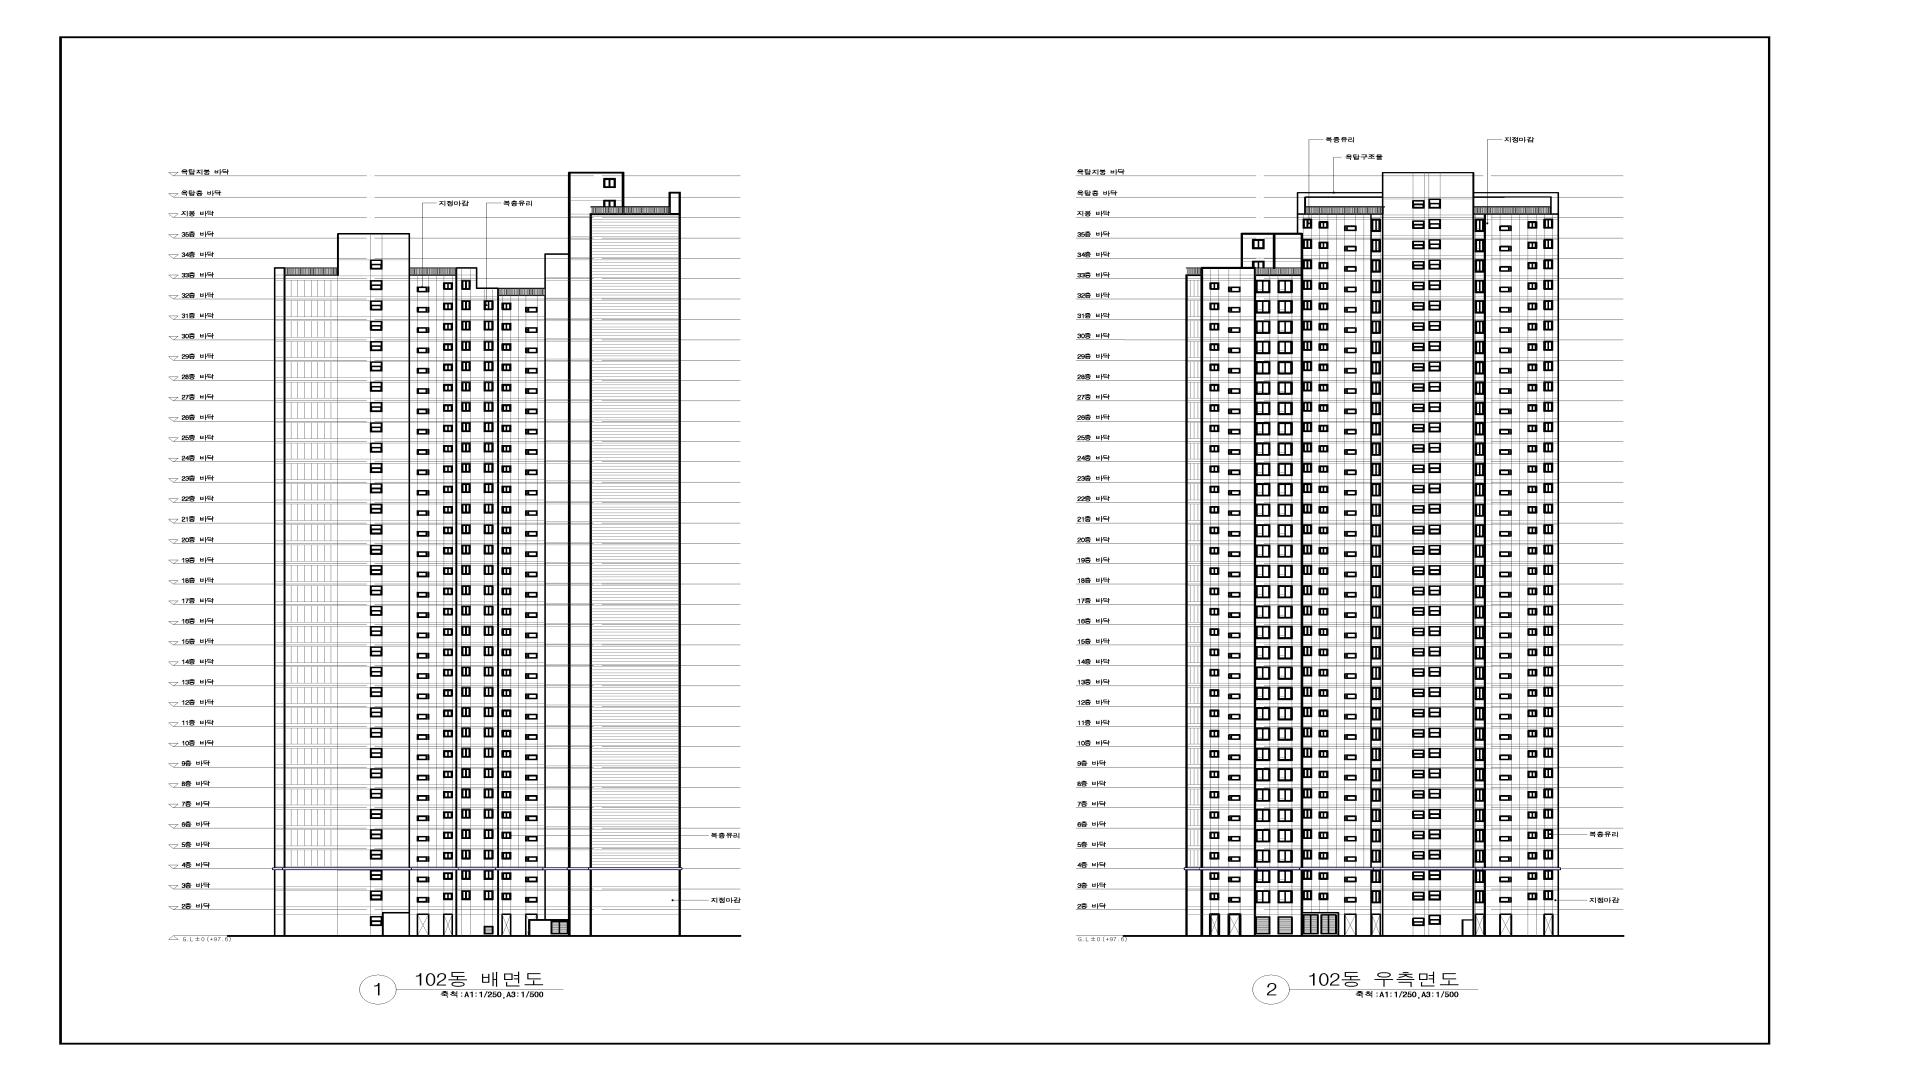door: (1228, 914, 1242, 935), (417, 914, 430, 935), (525, 914, 538, 935), (1344, 914, 1357, 935), (1499, 914, 1513, 935), (1370, 914, 1382, 935), (1474, 914, 1486, 935), (443, 914, 454, 935), (501, 914, 512, 935), (1209, 914, 1220, 935), (1543, 914, 1553, 935)
wall: (274, 171, 682, 938), (1185, 171, 1559, 938)
window: (1300, 914, 1319, 935), (1320, 914, 1337, 935), (1254, 916, 1271, 935), (551, 919, 571, 935), (1278, 916, 1294, 935), (1254, 767, 1271, 782), (1278, 280, 1294, 294), (1278, 340, 1294, 355), (1278, 381, 1294, 396), (1278, 442, 1294, 456), (1278, 483, 1294, 497), (1278, 666, 1294, 680), (1278, 767, 1294, 782), (1278, 869, 1294, 884), (1254, 340, 1270, 355), (1254, 442, 1270, 456), (1254, 666, 1270, 680), (1254, 301, 1271, 314), (1254, 361, 1271, 375), (1254, 381, 1271, 394), (1254, 422, 1271, 435), (1254, 504, 1271, 517), (1254, 525, 1271, 538), (1254, 564, 1271, 578), (1254, 646, 1271, 659), (1254, 748, 1271, 761), (1254, 789, 1271, 802), (1254, 870, 1271, 884), (1278, 301, 1294, 314), (1278, 320, 1294, 334), (1278, 361, 1294, 375), (1278, 402, 1294, 415), (1278, 422, 1294, 435), (1278, 463, 1294, 476), (1278, 525, 1294, 538), (1278, 545, 1294, 558), (1278, 564, 1294, 578), (1278, 585, 1294, 599), (1278, 626, 1294, 640), (1278, 646, 1294, 659), (1278, 687, 1294, 700), (1278, 707, 1294, 720), (1278, 728, 1294, 741), (1278, 748, 1294, 761), (1278, 789, 1294, 802), (1278, 808, 1294, 822), (1278, 829, 1294, 843), (1278, 849, 1294, 862), (1278, 890, 1294, 903), (1254, 280, 1270, 293), (1254, 320, 1270, 334), (1254, 402, 1270, 415), (1254, 463, 1270, 476), (1254, 483, 1270, 496), (1254, 545, 1270, 558), (1254, 585, 1270, 599), (1254, 605, 1270, 618), (1254, 626, 1270, 640), (1254, 687, 1270, 700), (1254, 707, 1270, 720), (1254, 728, 1270, 741), (1254, 808, 1270, 822), (1254, 829, 1270, 843), (1254, 849, 1270, 862), (1254, 890, 1270, 903), (1278, 504, 1292, 517), (1278, 605, 1292, 618), (1474, 340, 1486, 355), (1474, 483, 1486, 497), (1474, 666, 1486, 680), (1474, 767, 1486, 782), (1474, 219, 1486, 232), (1474, 239, 1486, 252), (1474, 260, 1486, 273), (1474, 320, 1486, 334), (1474, 402, 1486, 415), (1474, 422, 1486, 435), (1474, 463, 1486, 476), (1474, 525, 1486, 538), (1474, 545, 1486, 558), (1474, 564, 1486, 578), (1474, 585, 1486, 599), (1474, 646, 1486, 659), (1474, 687, 1486, 700), (1474, 707, 1486, 720), (1474, 728, 1486, 741), (1474, 748, 1486, 761), (1474, 789, 1486, 802), (1474, 808, 1486, 822), (1474, 829, 1486, 843), (1474, 849, 1486, 862), (1474, 870, 1486, 884), (1474, 890, 1486, 903), (1370, 260, 1382, 273), (1370, 748, 1382, 761), (1476, 442, 1486, 456), (1370, 340, 1381, 355), (1370, 442, 1381, 456), (1370, 666, 1381, 680), (1370, 707, 1381, 721), (603, 178, 616, 189), (369, 280, 382, 290), (369, 301, 382, 311), (369, 320, 382, 331), (369, 340, 382, 351), (369, 361, 382, 372), (369, 381, 382, 392), (369, 402, 382, 413), (369, 422, 382, 433), (369, 463, 382, 473), (369, 483, 382, 493), (369, 504, 382, 514), (369, 545, 382, 555), (369, 585, 382, 596), (369, 605, 382, 616), (369, 646, 382, 657), (369, 687, 382, 698), (369, 707, 382, 717), (369, 748, 382, 758), (369, 789, 382, 799), (369, 808, 382, 819), (369, 849, 382, 860), (369, 890, 382, 901), (1428, 219, 1441, 229), (1428, 239, 1441, 249), (1428, 260, 1441, 270), (1428, 280, 1441, 290), (1428, 301, 1441, 311), (1428, 320, 1441, 331), (1428, 361, 1441, 372), (1428, 381, 1441, 392), (1428, 402, 1441, 413), (1428, 422, 1441, 433), (1428, 443, 1441, 454), (1428, 463, 1441, 473), (1428, 504, 1441, 514), (1428, 525, 1441, 535), (1428, 545, 1441, 555), (1428, 585, 1441, 596), (1428, 605, 1441, 616), (1428, 626, 1441, 637), (1428, 646, 1441, 657), (1428, 687, 1441, 698), (1428, 707, 1441, 717), (1428, 728, 1441, 738), (1428, 748, 1441, 758), (1428, 789, 1441, 799), (1428, 808, 1441, 819), (1428, 829, 1441, 840), (1428, 849, 1441, 860), (1428, 870, 1441, 881), (1428, 890, 1441, 901), (1428, 915, 1441, 926), (1251, 239, 1265, 249), (1476, 280, 1486, 293), (1476, 301, 1486, 314), (1476, 361, 1486, 375), (1476, 381, 1486, 394), (1476, 504, 1486, 517), (1476, 605, 1486, 618), (1476, 626, 1486, 640), (1370, 219, 1381, 232), (1370, 239, 1381, 252), (1370, 280, 1381, 293), (1370, 301, 1381, 314), (1370, 320, 1381, 334), (1370, 361, 1381, 375), (1370, 381, 1381, 394), (1370, 402, 1381, 415), (1370, 422, 1381, 435), (1370, 463, 1381, 476), (1370, 483, 1381, 496), (1370, 504, 1381, 517), (1370, 525, 1381, 538), (1370, 545, 1381, 558), (1370, 564, 1381, 578), (1370, 585, 1381, 599), (1370, 605, 1381, 618), (1370, 626, 1381, 640), (1370, 646, 1381, 659), (1370, 687, 1381, 700), (1370, 728, 1381, 741), (1370, 769, 1381, 782), (1370, 789, 1381, 802), (1370, 808, 1381, 822), (1370, 829, 1381, 843), (1370, 849, 1381, 862), (1370, 870, 1381, 884), (1370, 890, 1381, 903), (1300, 239, 1312, 249), (1300, 280, 1312, 290), (1300, 320, 1312, 331), (1300, 340, 1312, 351), (1300, 361, 1312, 372), (1300, 381, 1312, 392), (1300, 422, 1312, 433), (1300, 442, 1312, 452), (1300, 463, 1312, 473), (1300, 483, 1312, 493), (1300, 504, 1312, 514), (1300, 545, 1312, 555), (1300, 564, 1312, 575), (1300, 585, 1312, 596), (1300, 605, 1312, 616), (1300, 625, 1312, 636), (1300, 646, 1312, 657), (1300, 666, 1312, 676), (1300, 687, 1312, 698), (1300, 707, 1312, 717), (1300, 748, 1312, 758), (1300, 767, 1312, 778), (1300, 789, 1312, 799), (1300, 808, 1312, 819), (1300, 849, 1312, 860), (1300, 890, 1312, 901), (369, 260, 382, 269), (369, 443, 382, 452), (369, 525, 382, 534), (369, 566, 382, 575), (369, 626, 382, 636), (369, 667, 382, 676), (369, 728, 382, 737), (369, 769, 382, 778), (369, 829, 382, 839), (369, 870, 382, 880), (1428, 199, 1441, 208), (1428, 342, 1441, 351), (1428, 484, 1441, 493), (1428, 566, 1441, 575), (1428, 667, 1441, 676), (1428, 769, 1441, 778), (1412, 220, 1425, 229), (1412, 261, 1425, 270), (1412, 302, 1425, 311), (1412, 322, 1425, 331), (1412, 363, 1425, 372), (1412, 404, 1425, 413), (1412, 423, 1425, 433), (1412, 464, 1425, 473), (1412, 505, 1425, 514), (1412, 546, 1425, 555), (1412, 587, 1425, 596), (1412, 607, 1425, 616), (1412, 628, 1425, 637), (1412, 647, 1425, 657), (1412, 688, 1425, 698), (1412, 729, 1425, 738), (1412, 749, 1425, 758), (1412, 790, 1425, 799), (1412, 831, 1425, 840), (1412, 851, 1425, 860), (1412, 872, 1425, 881), (1412, 891, 1425, 901), (484, 361, 495, 372), (483, 442, 493, 452), (484, 849, 495, 860), (1543, 239, 1553, 249), (1543, 280, 1553, 290), (1543, 320, 1553, 331), (1543, 340, 1553, 351), (1543, 361, 1553, 372), (1543, 381, 1553, 392), (1543, 422, 1553, 433), (1543, 442, 1553, 452), (1543, 463, 1553, 473), (1543, 483, 1553, 493), (1543, 504, 1553, 514), (1543, 524, 1553, 534), (1543, 545, 1553, 555), (1543, 564, 1553, 575), (1543, 605, 1553, 616), (1543, 646, 1553, 657), (1543, 666, 1553, 676), (1543, 687, 1553, 698), (1543, 707, 1553, 717), (1543, 748, 1553, 758), (1543, 767, 1553, 778), (1543, 789, 1553, 799), (1543, 808, 1553, 819), (1543, 849, 1553, 860), (1543, 890, 1553, 901), (371, 916, 382, 926), (1300, 260, 1312, 269), (1300, 301, 1312, 310), (1300, 402, 1312, 411), (1300, 525, 1312, 534), (1300, 728, 1312, 737), (1300, 829, 1312, 839), (1300, 870, 1312, 880), (1251, 261, 1265, 269), (1412, 200, 1425, 208), (1412, 241, 1425, 249), (1412, 282, 1425, 290), (1412, 343, 1425, 351), (1412, 384, 1425, 392), (1412, 444, 1425, 452), (1412, 485, 1425, 493), (1412, 526, 1425, 534), (1412, 567, 1425, 575), (1412, 669, 1425, 676), (1412, 709, 1425, 717), (1412, 770, 1425, 778), (1412, 811, 1425, 819), (1412, 918, 1425, 926), (462, 280, 471, 290), (484, 890, 493, 901), (462, 320, 471, 331), (462, 340, 471, 351), (462, 381, 471, 392), (462, 422, 471, 433), (462, 442, 471, 452), (462, 463, 471, 473), (462, 483, 471, 493), (462, 504, 471, 514), (462, 524, 471, 534), (462, 545, 471, 555), (462, 564, 471, 575), (462, 605, 471, 616), (462, 646, 471, 657), (462, 666, 471, 676), (462, 707, 471, 717), (462, 748, 471, 758), (462, 767, 471, 778), (462, 808, 471, 819), (462, 849, 471, 860), (462, 890, 471, 901), (484, 320, 493, 331), (484, 340, 493, 351), (484, 381, 493, 392), (484, 422, 493, 433), (484, 463, 493, 473), (484, 483, 493, 493), (484, 504, 493, 514), (484, 524, 493, 534), (484, 545, 493, 555), (484, 564, 493, 575), (484, 585, 493, 596), (484, 605, 493, 616), (484, 625, 493, 636), (484, 646, 493, 657), (484, 666, 493, 676), (484, 687, 493, 698), (484, 707, 493, 717), (484, 748, 493, 758), (484, 767, 493, 778), (484, 789, 493, 799), (484, 808, 493, 819), (484, 828, 493, 839), (484, 869, 493, 880), (1543, 219, 1553, 228), (1543, 260, 1553, 269), (1543, 301, 1553, 310), (1543, 402, 1553, 411), (1543, 585, 1553, 595), (1543, 626, 1553, 636), (1543, 728, 1553, 737), (1543, 829, 1553, 839), (1543, 870, 1553, 880), (525, 653, 538, 659), (525, 673, 538, 679), (603, 200, 616, 207), (417, 286, 430, 293), (525, 327, 538, 334), (525, 347, 538, 353), (525, 388, 538, 394), (525, 429, 538, 435), (525, 469, 538, 476), (525, 551, 538, 558), (525, 612, 538, 618), (525, 713, 538, 720), (525, 754, 538, 761), (525, 815, 538, 822), (525, 856, 538, 862), (525, 897, 538, 903), (417, 327, 430, 334), (417, 388, 430, 394), (417, 429, 430, 435), (417, 448, 430, 455), (417, 551, 430, 558), (417, 571, 430, 578), (417, 612, 430, 618), (417, 653, 430, 659), (417, 673, 430, 679), (417, 713, 430, 720), (417, 754, 430, 761), (417, 774, 430, 781), (417, 815, 430, 822), (417, 897, 430, 903), (417, 856, 430, 862), (1499, 245, 1513, 252), (1499, 286, 1513, 293), (1499, 327, 1513, 334), (1499, 388, 1513, 394), (1499, 429, 1513, 435), (1499, 551, 1513, 558), (1499, 571, 1513, 578), (1499, 612, 1513, 618), (1499, 653, 1513, 659), (1499, 673, 1513, 679), (1499, 713, 1513, 720), (1499, 754, 1513, 761), (1499, 815, 1513, 822), (1499, 856, 1513, 862), (1499, 897, 1513, 903), (1344, 245, 1357, 252), (1344, 286, 1357, 293), (1344, 388, 1357, 394), (1344, 429, 1357, 435), (1344, 612, 1357, 618), (1344, 653, 1357, 659), (1344, 673, 1357, 679), (1344, 713, 1357, 720), (1344, 754, 1357, 761), (1344, 774, 1357, 781), (1344, 815, 1357, 822), (1344, 856, 1357, 862), (1344, 897, 1357, 903), (1228, 286, 1241, 293), (1228, 327, 1241, 334), (1228, 388, 1241, 394), (1228, 429, 1241, 435), (1228, 551, 1241, 558), (1228, 571, 1241, 578), (1228, 612, 1241, 618), (1228, 653, 1241, 659), (1228, 673, 1241, 679), (1228, 713, 1241, 720), (1228, 754, 1241, 761), (1228, 815, 1241, 822), (1228, 856, 1241, 862), (1228, 897, 1241, 903), (484, 926, 493, 935), (484, 301, 493, 310), (462, 301, 471, 310), (462, 361, 471, 371), (462, 402, 471, 411), (462, 585, 471, 595), (462, 626, 471, 636), (462, 687, 471, 696), (462, 728, 471, 737), (462, 789, 471, 798), (462, 829, 471, 839), (462, 870, 471, 880), (484, 402, 493, 411), (484, 728, 493, 737), (1303, 219, 1312, 228), (501, 302, 512, 310), (443, 282, 454, 290), (501, 323, 512, 331), (501, 343, 512, 351), (443, 485, 454, 493), (443, 526, 454, 534), (443, 547, 454, 555), (443, 567, 454, 575), (443, 608, 454, 616), (443, 628, 454, 636), (443, 649, 454, 657), (443, 669, 454, 676), (443, 709, 454, 717), (443, 729, 454, 737), (443, 750, 454, 758), (443, 770, 454, 778), (443, 791, 454, 799), (443, 811, 454, 819), (443, 852, 454, 860), (443, 893, 454, 901), (501, 384, 512, 392), (501, 404, 512, 411), (501, 425, 512, 433), (501, 444, 512, 452), (501, 485, 512, 493), (501, 526, 512, 534), (501, 567, 512, 575), (501, 608, 512, 616), (501, 628, 512, 636), (501, 649, 512, 657), (501, 669, 512, 676), (501, 709, 512, 717), (501, 729, 512, 737), (501, 750, 512, 758), (501, 770, 512, 778), (501, 811, 512, 819), (501, 852, 512, 860), (501, 893, 512, 901), (443, 302, 454, 310), (443, 323, 454, 331), (443, 343, 454, 351), (443, 364, 454, 372), (443, 384, 454, 392), (443, 404, 454, 411), (443, 425, 454, 433), (443, 444, 454, 452), (443, 465, 454, 473), (1527, 241, 1538, 249), (1527, 282, 1538, 290), (1527, 302, 1538, 310), (1527, 323, 1538, 331), (1527, 343, 1538, 351), (1527, 364, 1538, 372), (1527, 384, 1538, 392), (1527, 404, 1538, 411), (1527, 425, 1538, 433), (1527, 465, 1538, 473), (1527, 485, 1538, 493), (1527, 526, 1538, 534), (1527, 547, 1538, 555), (1527, 567, 1538, 575), (1527, 608, 1538, 616), (1527, 628, 1538, 636), (1527, 649, 1538, 657), (1527, 669, 1538, 676), (1527, 690, 1538, 698), (1527, 709, 1538, 717), (1527, 729, 1538, 737), (1527, 750, 1538, 758), (1527, 770, 1538, 778), (1527, 791, 1538, 799), (1527, 811, 1538, 819), (1527, 852, 1538, 860), (1527, 872, 1538, 880), (1527, 893, 1538, 901), (1319, 282, 1329, 290), (1319, 302, 1329, 310), (1319, 343, 1329, 351), (1319, 364, 1329, 372), (1319, 384, 1329, 392), (1319, 425, 1329, 433), (1319, 465, 1329, 473), (1319, 485, 1329, 493), (1319, 506, 1329, 514), (1319, 526, 1329, 534), (1319, 547, 1329, 555), (1319, 567, 1329, 575), (1319, 649, 1329, 657), (1319, 669, 1329, 676), (1319, 690, 1329, 698), (1319, 709, 1329, 717), (1319, 729, 1329, 737), (1319, 770, 1329, 778), (1319, 791, 1329, 799), (1319, 811, 1329, 819), (1319, 852, 1329, 860), (1319, 893, 1329, 901), (1209, 282, 1220, 290), (1209, 302, 1220, 310), (1209, 323, 1220, 331), (1209, 343, 1220, 351), (1209, 384, 1220, 392), (1209, 404, 1220, 411), (1209, 425, 1220, 433), (1209, 465, 1220, 473), (1209, 485, 1220, 493), (1209, 506, 1220, 514), (1209, 526, 1220, 534), (1209, 547, 1220, 555), (1209, 567, 1220, 575), (1209, 588, 1220, 596), (1209, 608, 1220, 616), (1209, 628, 1220, 636), (1209, 649, 1220, 657), (1209, 669, 1220, 676), (1209, 690, 1220, 698), (1209, 709, 1220, 717), (1209, 729, 1220, 737), (1209, 750, 1220, 758), (1209, 791, 1220, 799), (1209, 811, 1220, 819), (1209, 852, 1220, 860), (1209, 872, 1220, 880), (1209, 893, 1220, 901), (1319, 241, 1328, 249), (1319, 323, 1328, 331), (1319, 608, 1328, 616), (1319, 628, 1328, 636), (1319, 750, 1328, 758), (525, 307, 538, 313), (525, 368, 538, 373), (525, 409, 538, 414), (525, 450, 538, 455), (525, 491, 538, 496), (525, 510, 538, 516), (525, 531, 538, 537), (525, 572, 538, 578), (525, 592, 538, 597), (525, 633, 538, 638), (525, 694, 538, 699), (525, 735, 538, 740), (525, 775, 538, 781), (525, 795, 538, 800), (525, 836, 538, 841), (525, 877, 538, 882), (417, 307, 430, 313), (417, 348, 430, 353), (417, 368, 430, 373), (417, 409, 430, 414), (417, 469, 430, 475), (417, 491, 430, 496), (417, 531, 430, 537), (417, 592, 430, 597), (417, 633, 430, 638), (417, 694, 430, 699), (417, 735, 430, 740), (417, 795, 430, 800), (501, 364, 512, 371), (443, 506, 454, 513), (443, 588, 454, 595), (443, 690, 454, 696), (443, 832, 454, 839), (443, 873, 454, 880), (417, 877, 430, 882), (417, 510, 430, 516), (417, 836, 430, 841), (501, 465, 512, 472), (501, 506, 512, 513), (501, 547, 512, 554), (501, 588, 512, 595), (501, 690, 512, 696), (501, 791, 512, 798), (501, 832, 512, 839), (501, 873, 512, 880), (1527, 222, 1538, 228), (1527, 262, 1538, 269), (1527, 446, 1538, 452), (1527, 506, 1538, 513), (1527, 588, 1538, 595), (1527, 832, 1538, 839), (1499, 225, 1513, 231), (1499, 266, 1513, 272), (1499, 307, 1513, 313), (1499, 348, 1513, 353), (1499, 368, 1513, 373), (1499, 409, 1513, 414), (1499, 450, 1513, 455), (1499, 469, 1513, 475), (1499, 491, 1513, 496), (1499, 510, 1513, 516), (1499, 531, 1513, 537), (1499, 592, 1513, 597), (1499, 633, 1513, 638), (1499, 694, 1513, 699), (1499, 735, 1513, 740), (1499, 775, 1513, 781), (1499, 795, 1513, 800), (1499, 836, 1513, 841), (1499, 877, 1513, 882), (1344, 225, 1357, 231), (1344, 266, 1357, 272), (1344, 307, 1357, 313), (1344, 327, 1357, 332), (1344, 348, 1357, 353), (1344, 368, 1357, 373), (1344, 409, 1357, 414), (1344, 450, 1357, 455), (1344, 469, 1357, 475), (1344, 491, 1357, 496), (1344, 510, 1357, 516), (1344, 531, 1357, 537), (1344, 551, 1357, 556), (1344, 572, 1357, 578), (1344, 592, 1357, 597), (1344, 633, 1357, 638), (1344, 694, 1357, 699), (1344, 735, 1357, 740), (1344, 795, 1357, 800), (1344, 836, 1357, 841), (1344, 877, 1357, 882), (1228, 307, 1241, 313), (1228, 348, 1241, 353), (1228, 368, 1241, 373), (1228, 409, 1241, 414), (1228, 450, 1241, 455), (1228, 469, 1241, 475), (1228, 491, 1241, 496), (1228, 510, 1241, 516), (1228, 531, 1241, 537), (1228, 592, 1241, 597), (1228, 633, 1241, 638), (1228, 694, 1241, 699), (1228, 735, 1241, 740), (1228, 775, 1241, 781), (1228, 795, 1241, 800), (1228, 836, 1241, 841), (1228, 877, 1241, 882), (1319, 222, 1329, 228), (1319, 262, 1329, 269), (1319, 405, 1329, 411), (1319, 446, 1329, 452), (1319, 588, 1329, 595), (1319, 832, 1329, 839), (1319, 873, 1329, 880), (1209, 364, 1220, 371), (1209, 446, 1220, 452), (1209, 771, 1220, 778), (1209, 832, 1220, 839)
